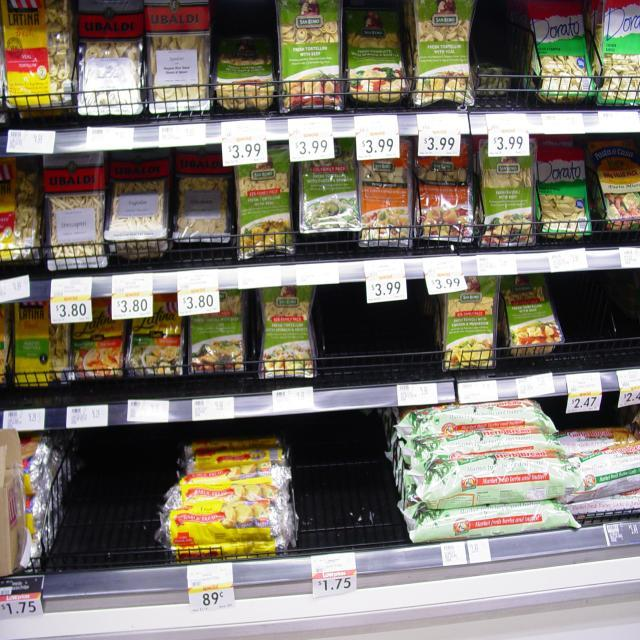Empty_shelf: (1, 4, 640, 640)
